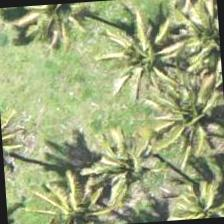Kelapa_Sawit: (72, 116, 168, 212), (92, 0, 189, 95), (20, 154, 116, 223), (158, 61, 223, 156), (157, 160, 223, 222)
